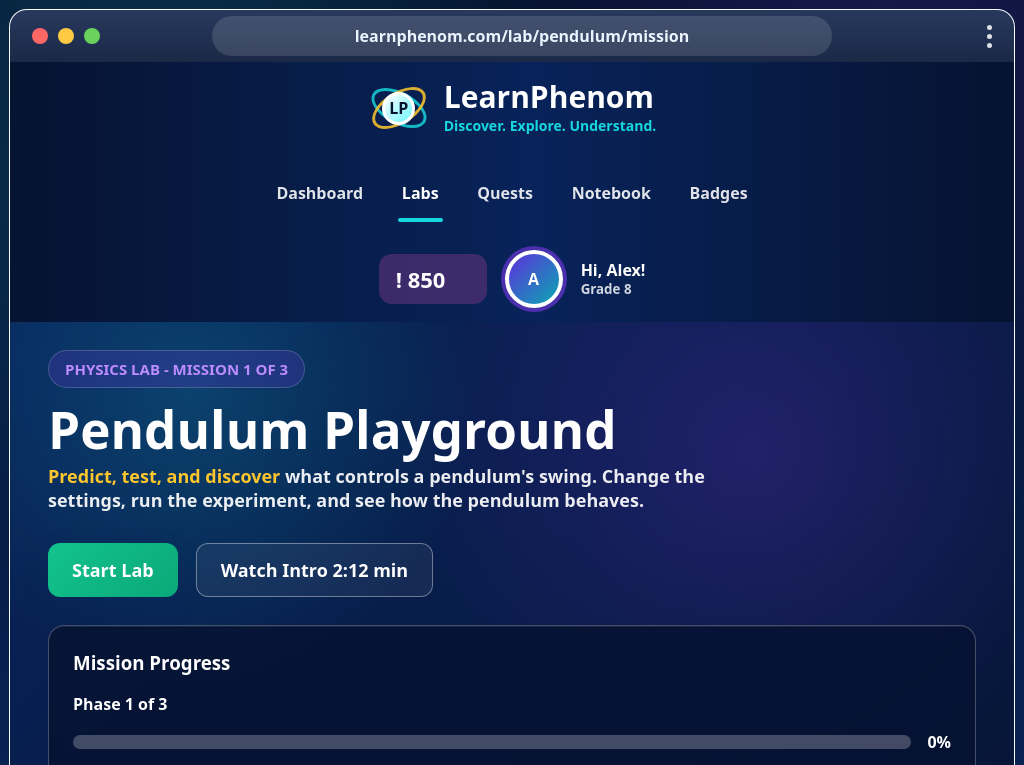
Test case: PendulumLab › routes top navigation to product shell views
This screenshot has width=1024, height=765.
Click the button "Dashboard".
click(320, 195)  # box [272,168,367,222]
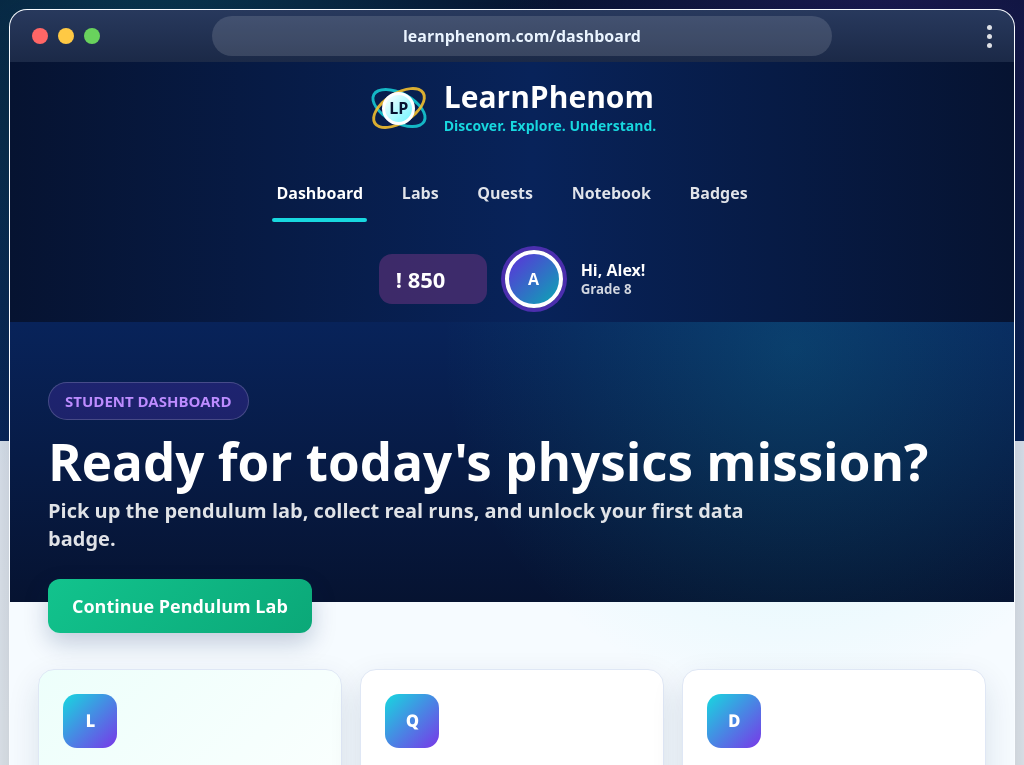
Result: the heading "Ready for today's physics mission?" is shown at [48,436,976,487]
Click the button "Labs".
click(420, 195)  # box [398,168,443,222]
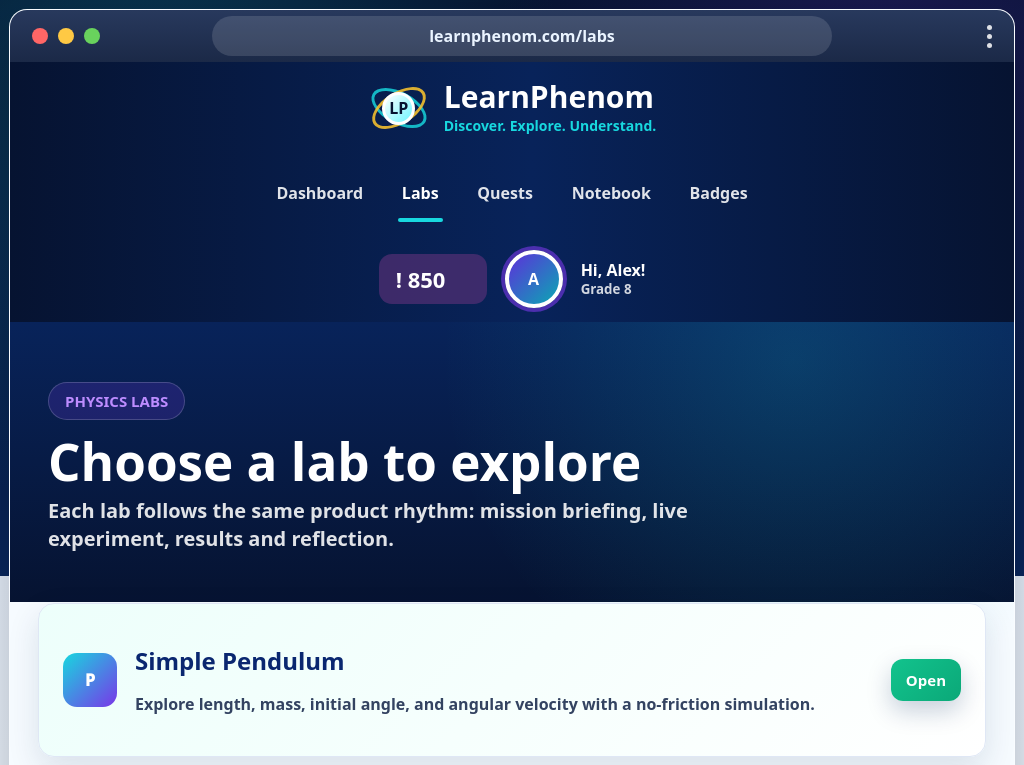
Result: the heading "Choose a lab to explore" is shown at [48,426,641,496]
